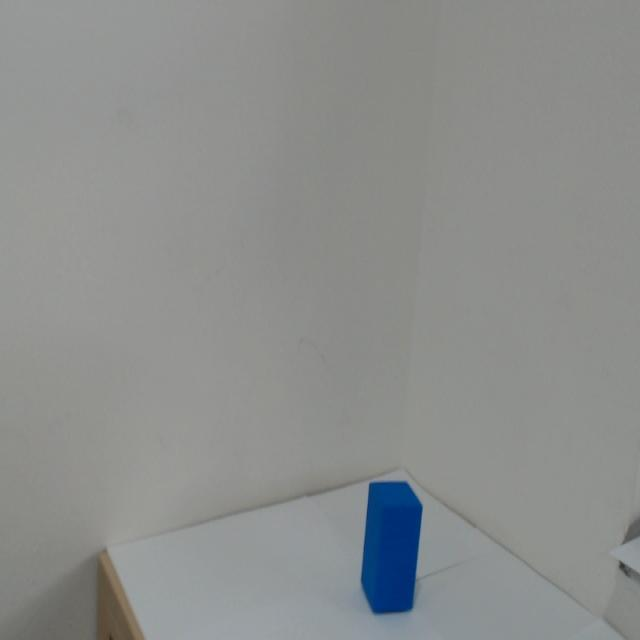cube: (348, 474, 448, 640)
